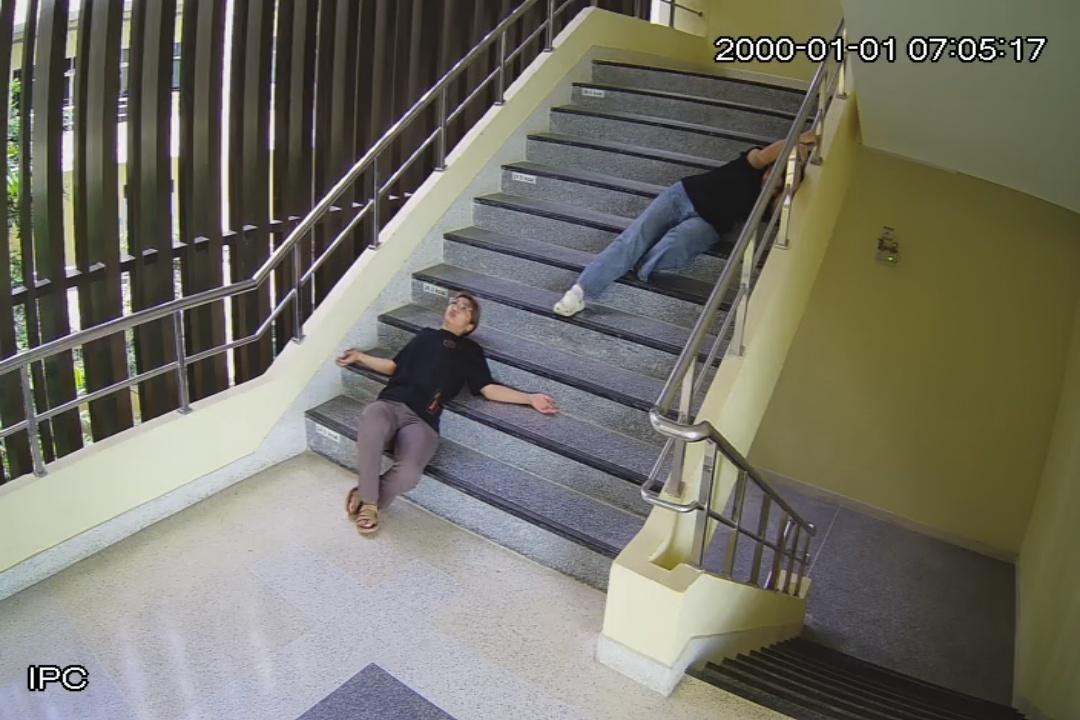fall: (347, 295, 548, 537), (564, 130, 819, 319)
